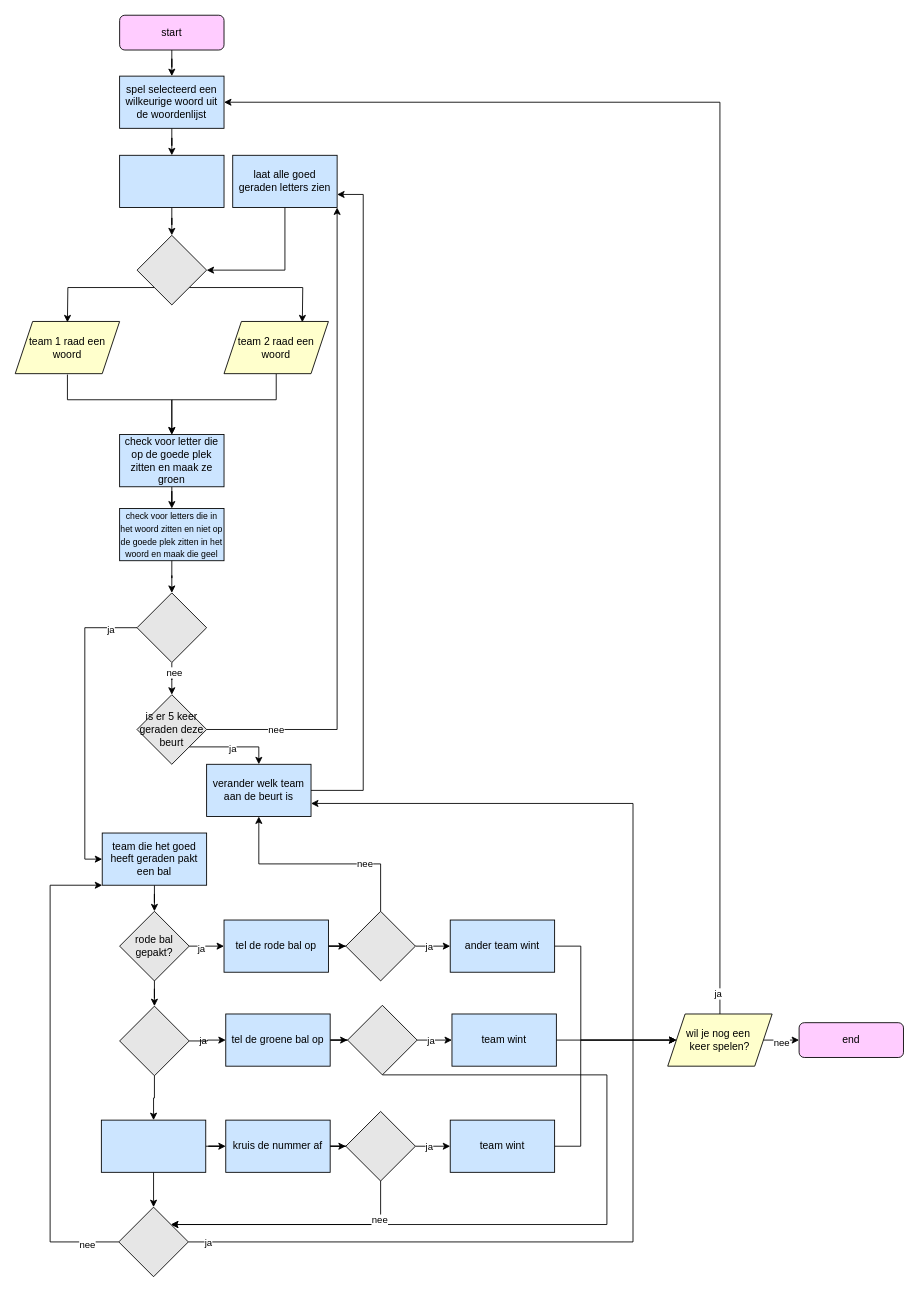
This 919x1292 diagram has some shape labels left out. Each missing label, with the box of its shape:
3 groene ballen?: (347, 1004, 417, 1075)
3 rode ballen?: (345, 910, 415, 981)
groene bal gepakt?: (119, 1005, 189, 1076)
heb je al 2 ballen gepakt?: (118, 1206, 188, 1277)
heb je een lijn?: (345, 1111, 415, 1181)
is het woord goed geraden?: (136, 592, 207, 663)
laat de eerste letter zien: (119, 154, 224, 207)
welk team is aan de beurt?: (136, 234, 207, 305)
zit de nummer op je kaart: (100, 1119, 206, 1172)
